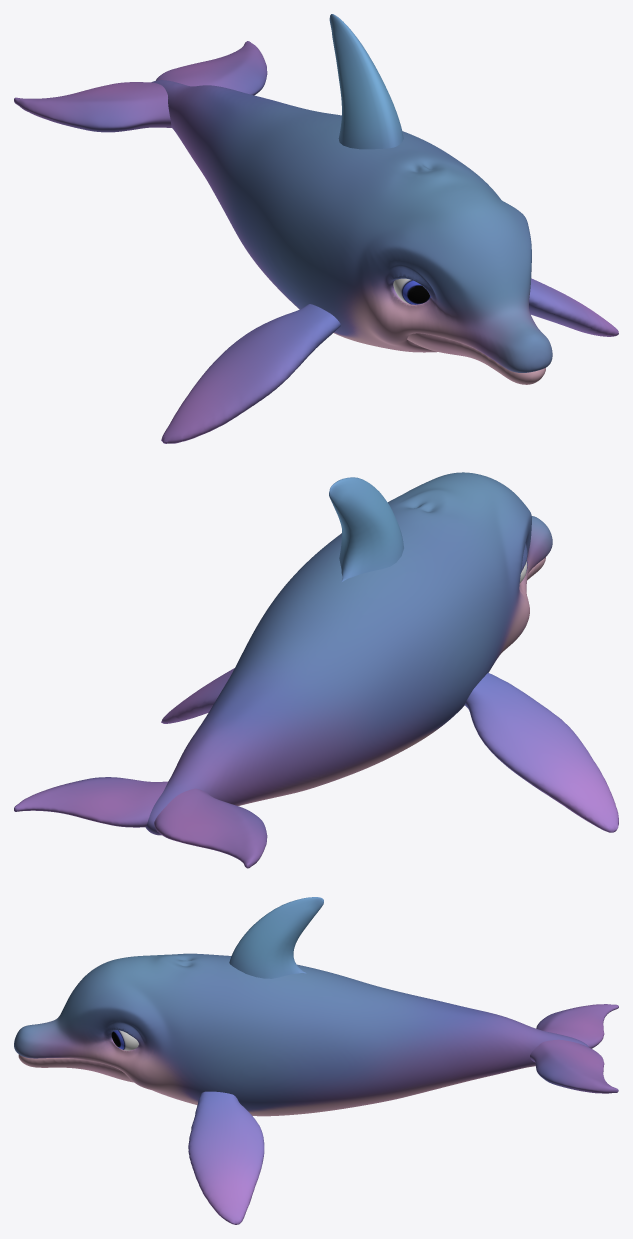
File: Fishes_Big_Dolphin_1.glb
3 renders of one model, top to bottom at view 1: azimuth 30°, elevation 25°; view 2: azimuth 150°, elevation 25°; view 3: azimuth 270°, elevation 25°, orthographic. The views are drawn at different scales.
Parts seen in each view (by area): view 1: Dolphin body, Dolphin fin 1, Dolphin tail, Dolphin fin 2, Dolphin jaw, Dolphin eyes; view 2: Dolphin body, Dolphin fin 1, Dolphin tail, Dolphin fin 2; view 3: Dolphin body, Dolphin fin 1, Dolphin tail, Dolphin fin 2, Dolphin jaw.
Boxes of the visible parts, x1,y1,x2,y2 form: Dolphin body: (151,80,552,372); Dolphin fin 1: (161,278,618,443); Dolphin tail: (14,41,267,132); Dolphin fin 2: (329,14,403,149); Dolphin jaw: (407,333,545,384); Dolphin eyes: (393,278,430,304); Dolphin body: (145,472,552,835); Dolphin fin 1: (161,668,618,832); Dolphin tail: (14,777,267,868); Dolphin fin 2: (329,477,403,581); Dolphin body: (14,953,588,1116); Dolphin fin 1: (188,1091,264,1224); Dolphin tail: (530,1004,618,1093); Dolphin fin 2: (229,897,323,978); Dolphin jaw: (18,1054,133,1082).
Size of the model in its own units: 1.96 by 1.37 by 3.05.
